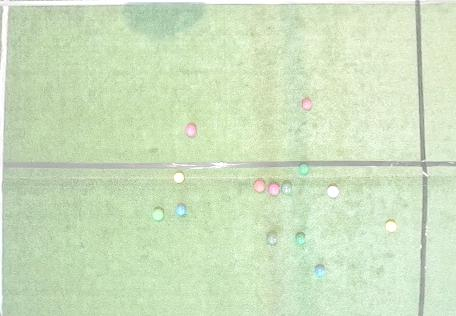blue: (176, 205, 187, 216), (315, 265, 325, 277)
green: (152, 209, 163, 221), (266, 233, 277, 245), (295, 234, 305, 245), (281, 183, 291, 194), (299, 164, 309, 175)
red: (268, 183, 280, 195), (254, 180, 266, 192), (186, 124, 197, 137), (327, 186, 339, 197), (301, 99, 312, 110)
vline: (414, 0, 455, 315), (0, 0, 12, 315)
white: (220, 162, 223, 167)
yellow: (385, 221, 397, 232), (173, 173, 184, 183)
